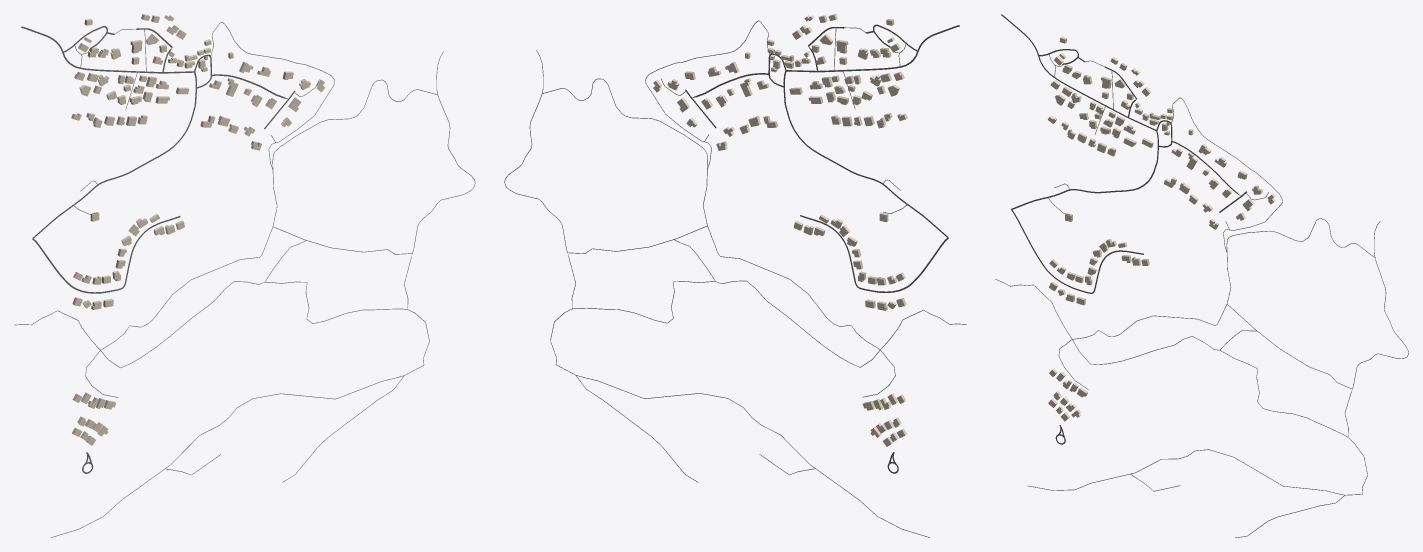
Rendered from historic-palestine-10_35_3518_3292.glb.
3 views of the same model, side by side, from view 1: azimuth 30°, elevation 25°; view 2: azimuth 150°, elevation 25°; view 3: azimuth 330°, elevation 25° (orthographic). The views are drawn at different scales.
Bounding box in the file's own units: 1044 × 1126 × 8.7.
